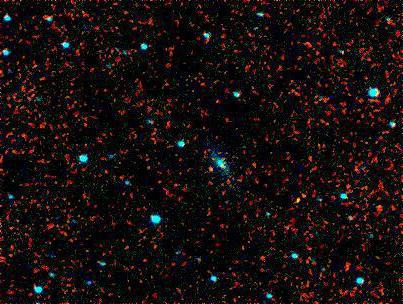star: (291, 188, 321, 218)
